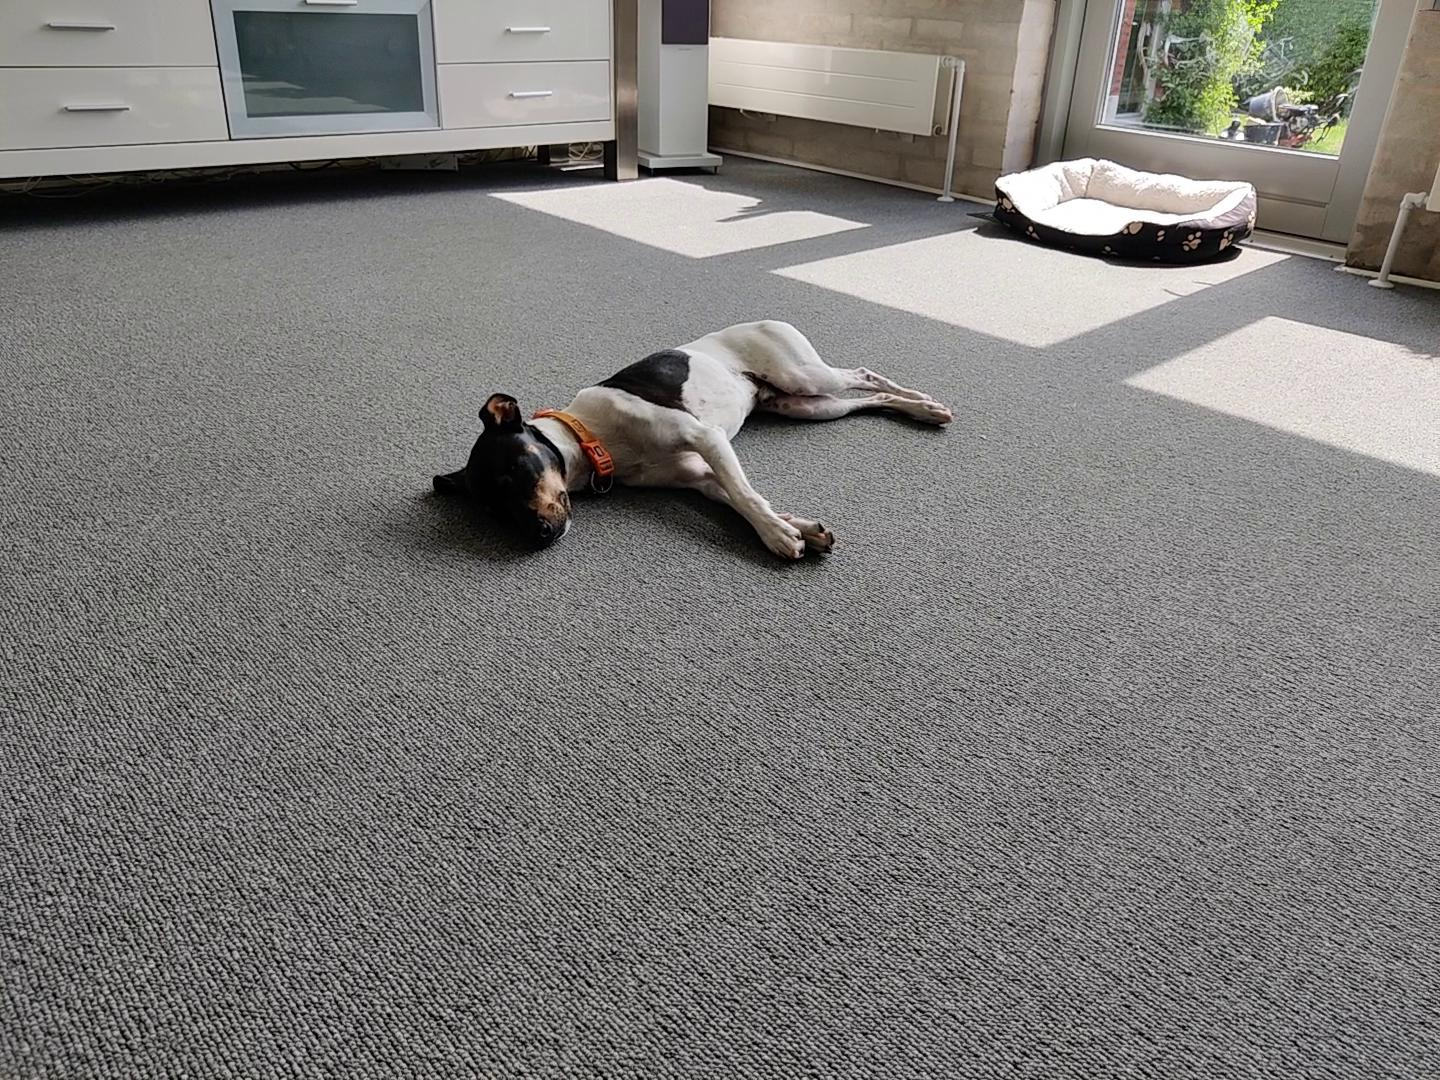Dog: (418, 310, 974, 569)
